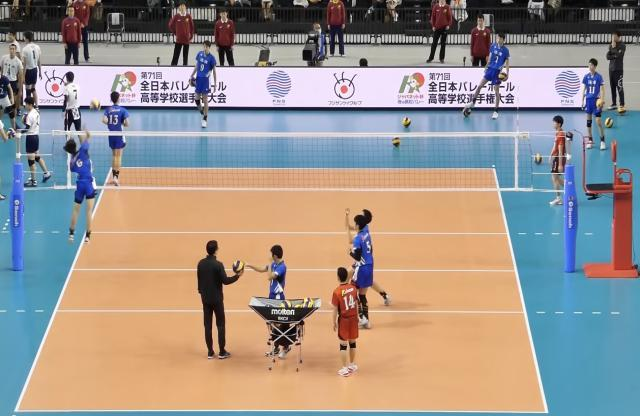spike: (57, 113, 99, 249)
